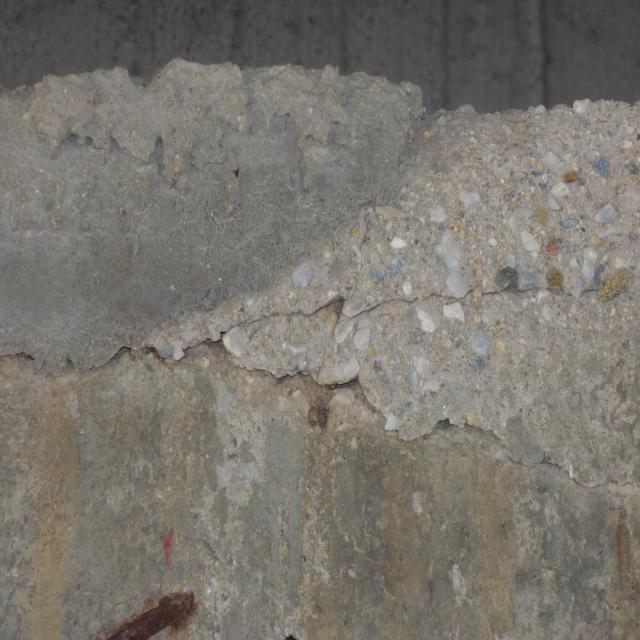Rebar: (98, 580, 204, 640)
concrete spalling: (3, 237, 640, 499)
